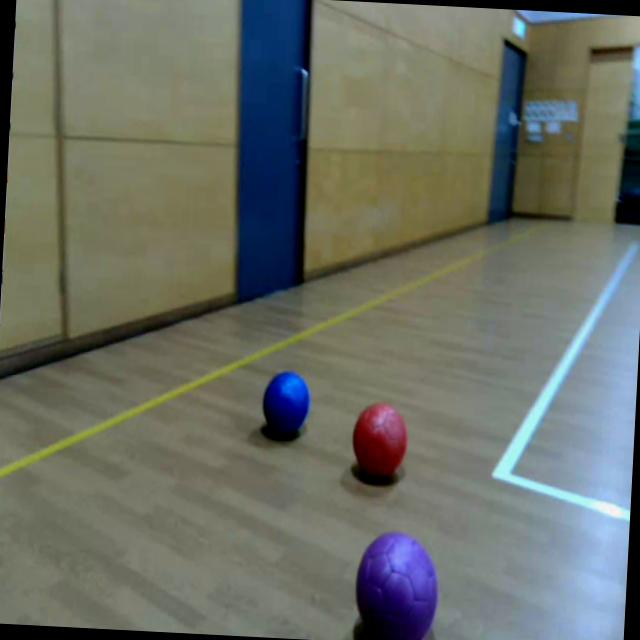blue_ball: (262, 369, 312, 436)
purple_ball: (354, 531, 440, 640)
red_ball: (350, 400, 410, 476)
